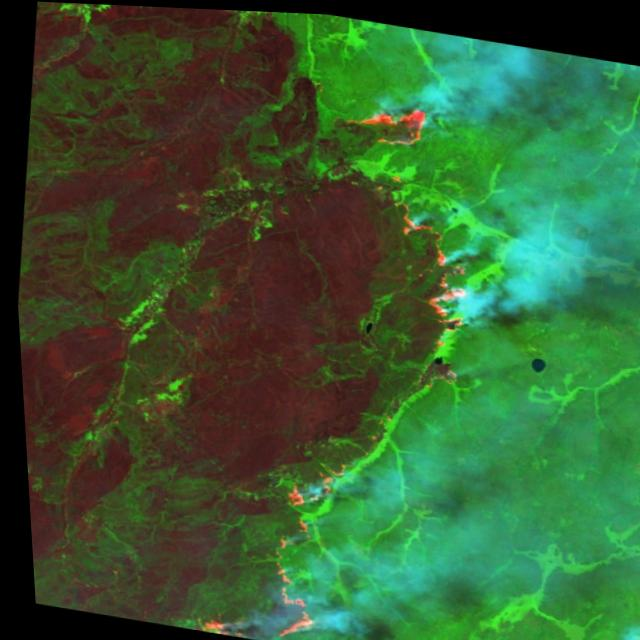fire: (293, 80, 505, 393), (168, 426, 359, 640), (544, 626, 634, 640)
